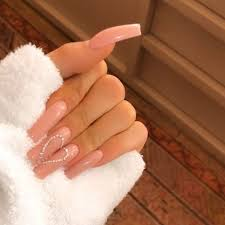nail: (26, 126, 71, 166), (27, 100, 68, 138), (34, 145, 79, 177), (64, 148, 104, 180), (88, 24, 142, 45)
